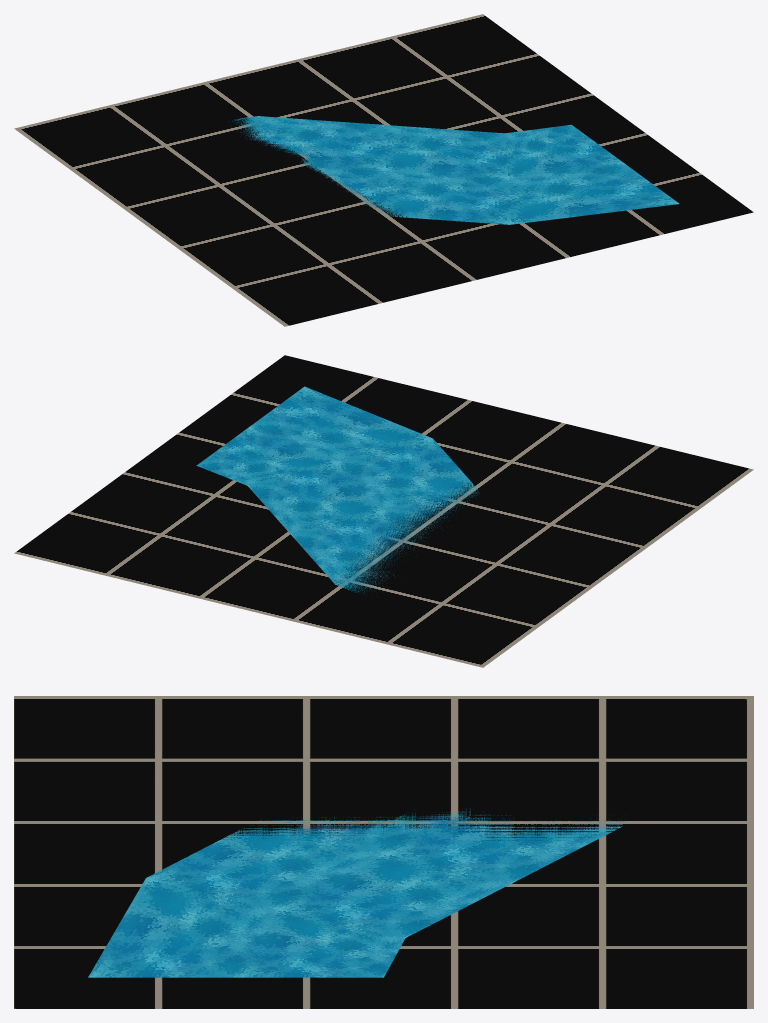
Rendered from Terrain_Water_River_Esse_CW_4x4.glb.
3 views of the same model, one above another, from view 1: azimuth 30°, elevation 25°; view 2: azimuth 150°, elevation 25°; view 3: azimuth 270°, elevation 25° (orthographic). The views are drawn at different scales.
Visible parts, largest first — view 1: Floor, Terrain_Water_River_Esse_CW_4x4; view 2: Floor, Terrain_Water_River_Esse_CW_4x4; view 3: Floor, Terrain_Water_River_Esse_CW_4x4.
Boxes of the visible parts, x1,y1,x2,y2 form: Floor: (14,14,753,326); Terrain_Water_River_Esse_CW_4x4: (232,116,679,224); Floor: (14,355,753,667); Terrain_Water_River_Esse_CW_4x4: (196,386,478,593); Floor: (14,696,753,1008); Terrain_Water_River_Esse_CW_4x4: (88,808,624,977).
Size of the model in its own units: 500 by 0.000142 by 500.
2 materials, 2 textured.
